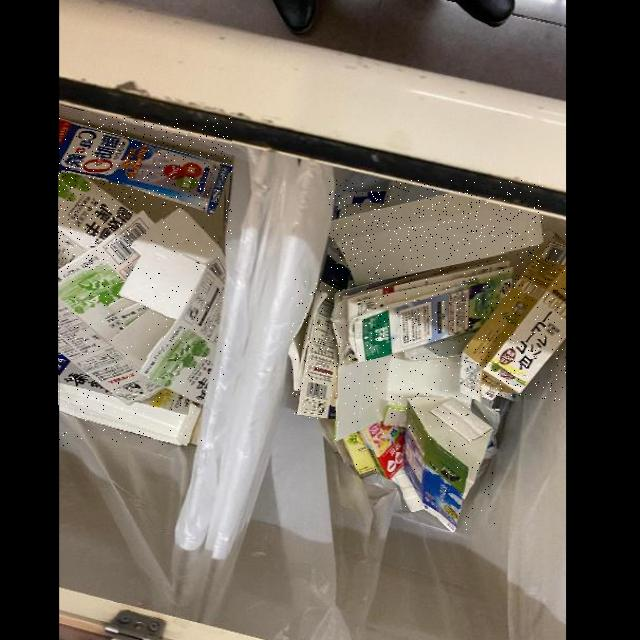paper: (59, 117, 232, 252), (110, 207, 226, 402), (330, 180, 544, 284), (59, 210, 163, 405), (345, 253, 516, 362), (460, 232, 566, 401), (334, 351, 472, 442), (59, 358, 202, 445), (404, 396, 495, 531), (292, 277, 342, 421), (59, 172, 132, 270), (344, 422, 405, 479)
